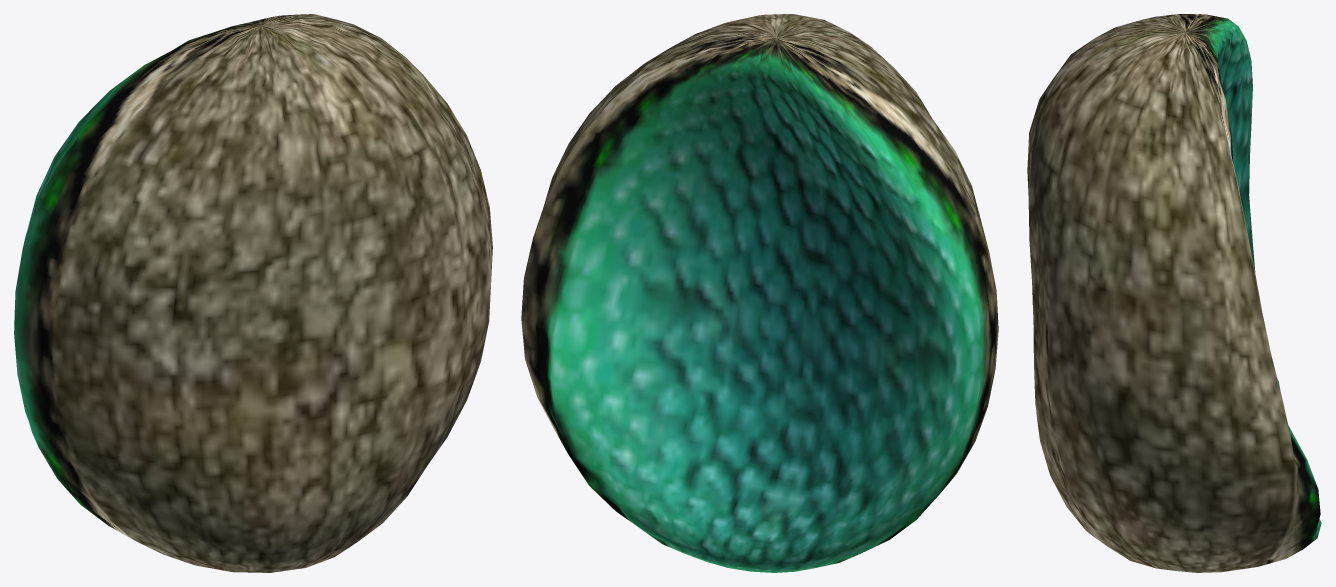
Rendered from Blue_Mushroom.fbx.
3 views of the same model, side by side, from view 1: azimuth 30°, elevation 25°; view 2: azimuth 150°, elevation 25°; view 3: azimuth 270°, elevation 25° (orthographic). The views are drawn at different scales.
Visible parts, largest first — view 1: pSphere1; view 2: pSphere1; view 3: pSphere1.
Part boxes in pixels (left/top/right/bottom): pSphere1: left=14, top=14, right=492, bottom=572; pSphere1: left=521, top=14, right=998, bottom=572; pSphere1: left=1027, top=14, right=1321, bottom=572.
Bounding box in the file's own units: 1.89 × 2.1 × 1.08.
